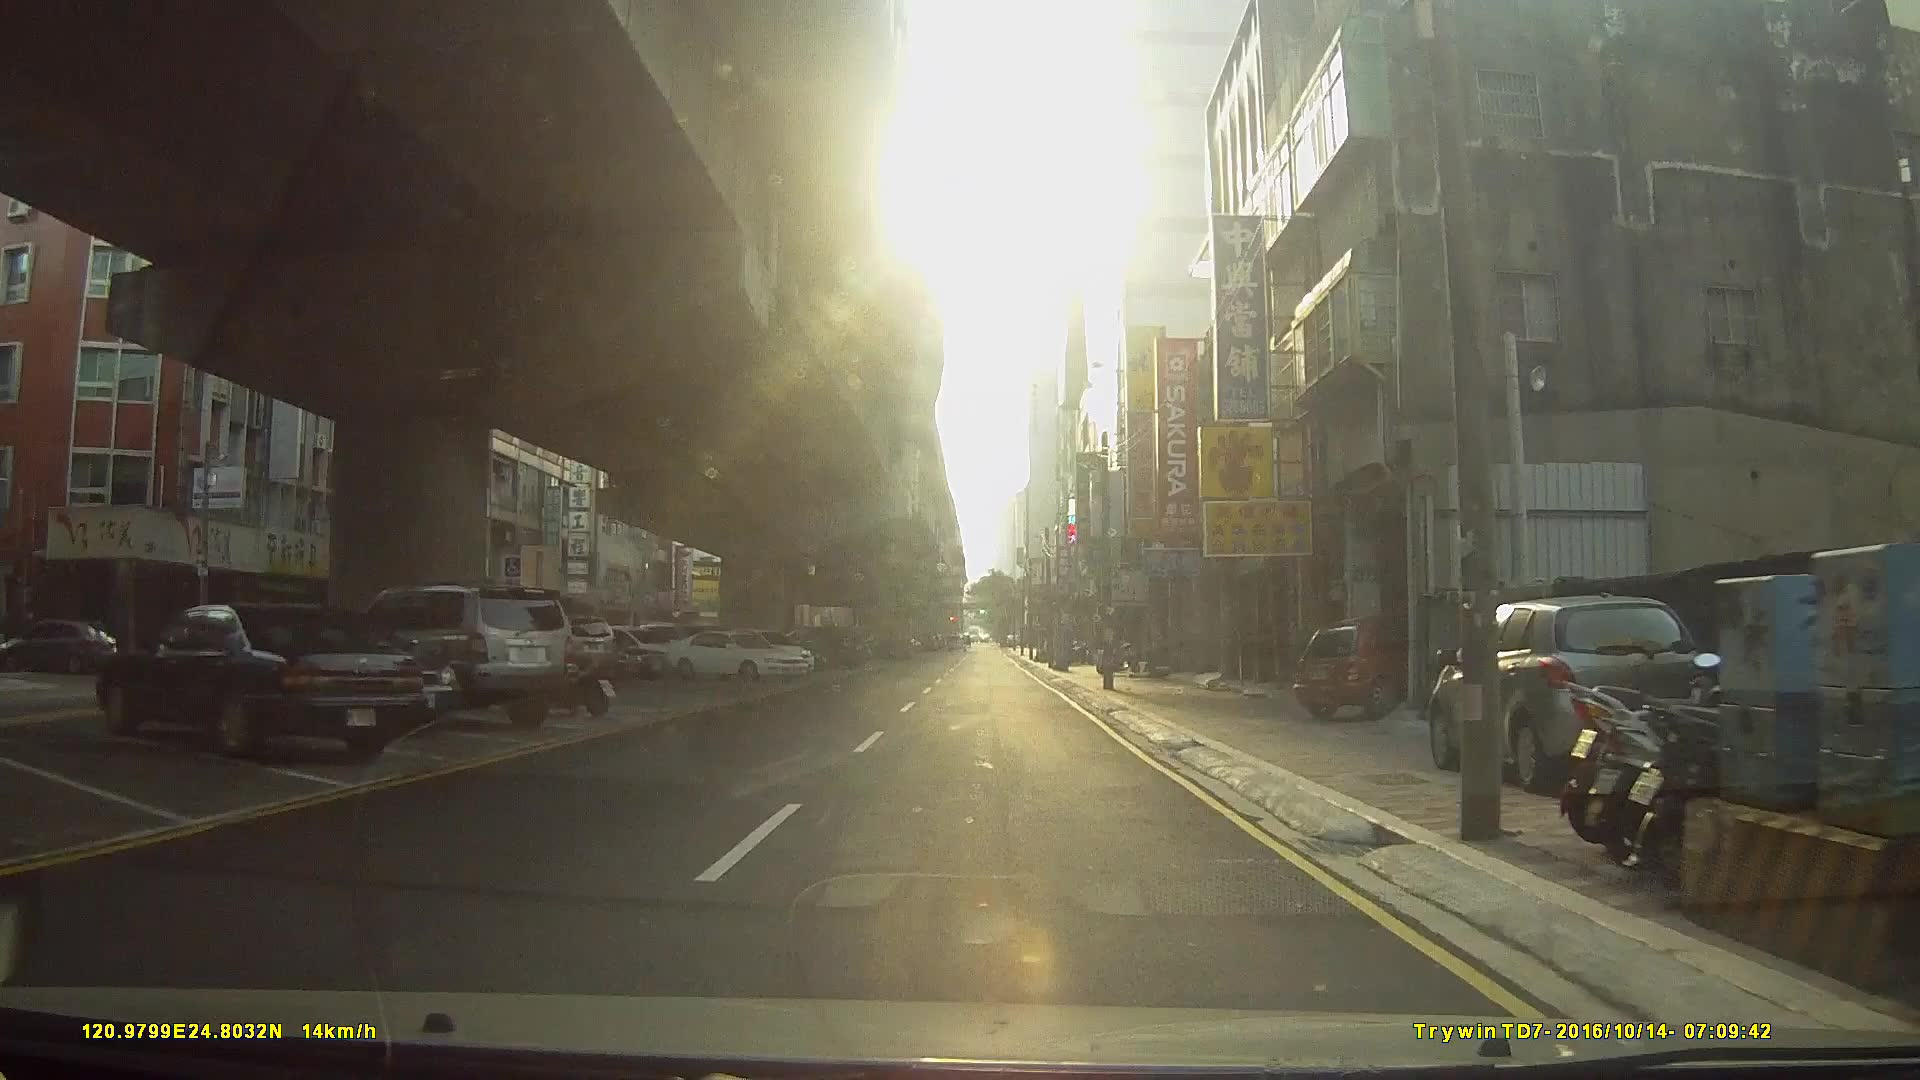vehicle: (1427, 591, 1712, 789), (94, 601, 425, 757), (340, 580, 576, 733), (1294, 611, 1455, 719), (662, 624, 812, 680), (0, 618, 117, 673)
